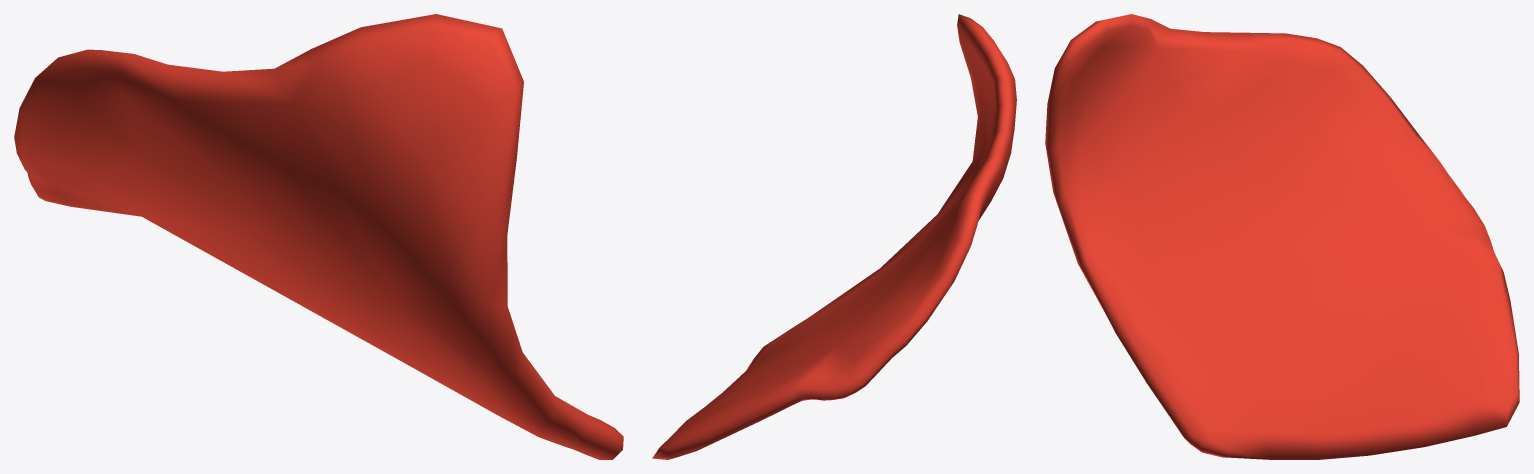
Rendered from Adductor_hallucis_oblique_head_cuboid_left.glb.
The picture shows the model from 3 angles, left to right: view 1: azimuth 30°, elevation 25°; view 2: azimuth 150°, elevation 25°; view 3: azimuth 270°, elevation 25°; orthographic projection. The views are drawn at different scales.
Parts seen in each view (by area): view 1: Oblique_head_of_adductor_hallucis_on_cuboid_bone.l_Generated; view 2: Oblique_head_of_adductor_hallucis_on_cuboid_bone.l_Generated; view 3: Oblique_head_of_adductor_hallucis_on_cuboid_bone.l_Generated.
Part boxes in pixels (left/top/right/bottom): Oblique_head_of_adductor_hallucis_on_cuboid_bone.l_Generated: left=14, top=14, right=623, bottom=459; Oblique_head_of_adductor_hallucis_on_cuboid_bone.l_Generated: left=652, top=14, right=1016, bottom=459; Oblique_head_of_adductor_hallucis_on_cuboid_bone.l_Generated: left=1045, top=14, right=1519, bottom=459.
Size of the model in its own units: 0.00666 by 0.00786 by 0.00939.
